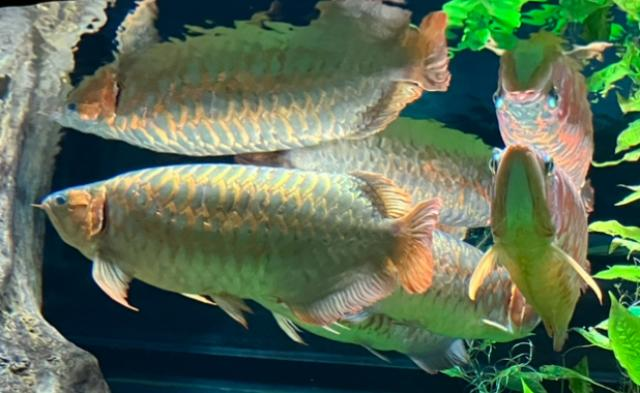Mulut: (477, 129, 559, 251), (20, 172, 76, 252)
Sirip Anal: (288, 266, 408, 328)
Sirip Dada: (542, 234, 614, 306), (82, 244, 144, 324), (454, 236, 510, 314)
Sirip Ekor: (370, 193, 454, 307)
Sirip Perut: (198, 282, 260, 336)
Sirip Punggung: (342, 163, 418, 225)
